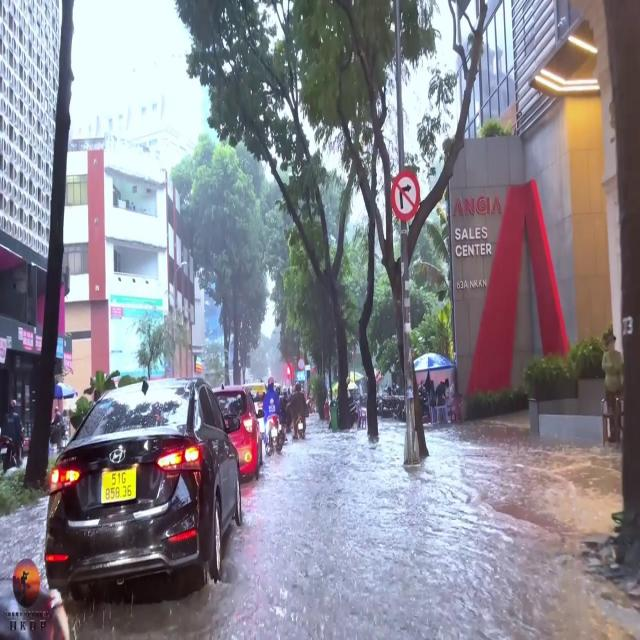bien_vang: (100, 466, 138, 504)
